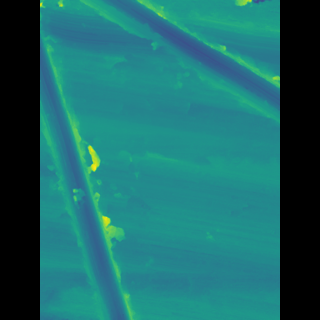Loch: (66, 23, 140, 320), (99, 0, 252, 129)
